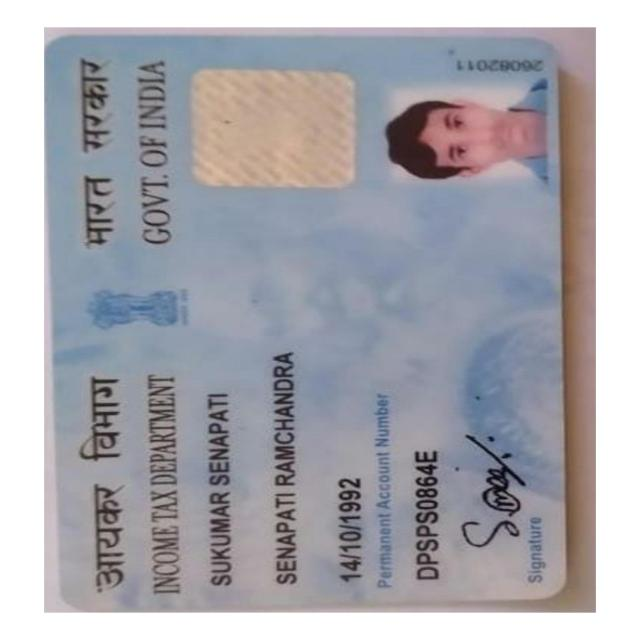pan_card: (45, 45, 556, 607)
